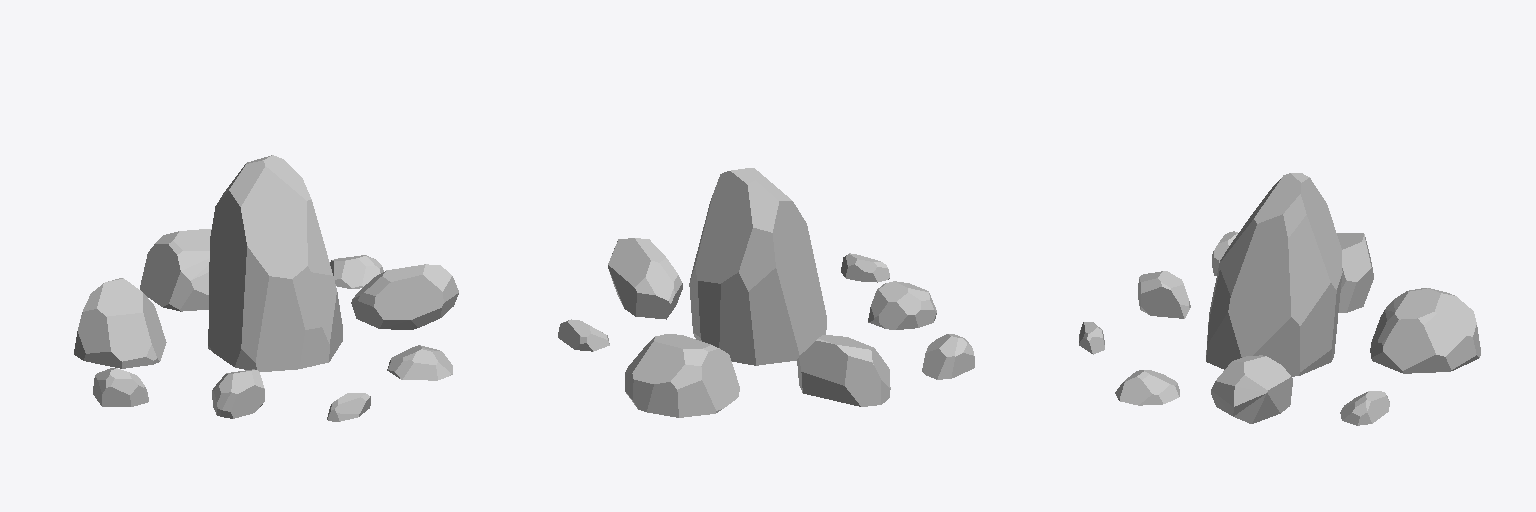
File: lowpolyrock.obj
3 views of the same model, side by side, from view 1: azimuth 30°, elevation 25°; view 2: azimuth 150°, elevation 25°; view 3: azimuth 270°, elevation 25° (orthographic).
Parts seen in each view (by area): view 1: Cube.001_meshId0_name; view 2: Cube.001_meshId0_name; view 3: Cube.001_meshId0_name.
Boxes of the visible parts, x1,y1,x2,y2 form: Cube.001_meshId0_name: [74, 155, 458, 421]; Cube.001_meshId0_name: [558, 168, 974, 417]; Cube.001_meshId0_name: [1079, 173, 1480, 425].
Size of the model in its own units: 200 by 94.28 by 193.